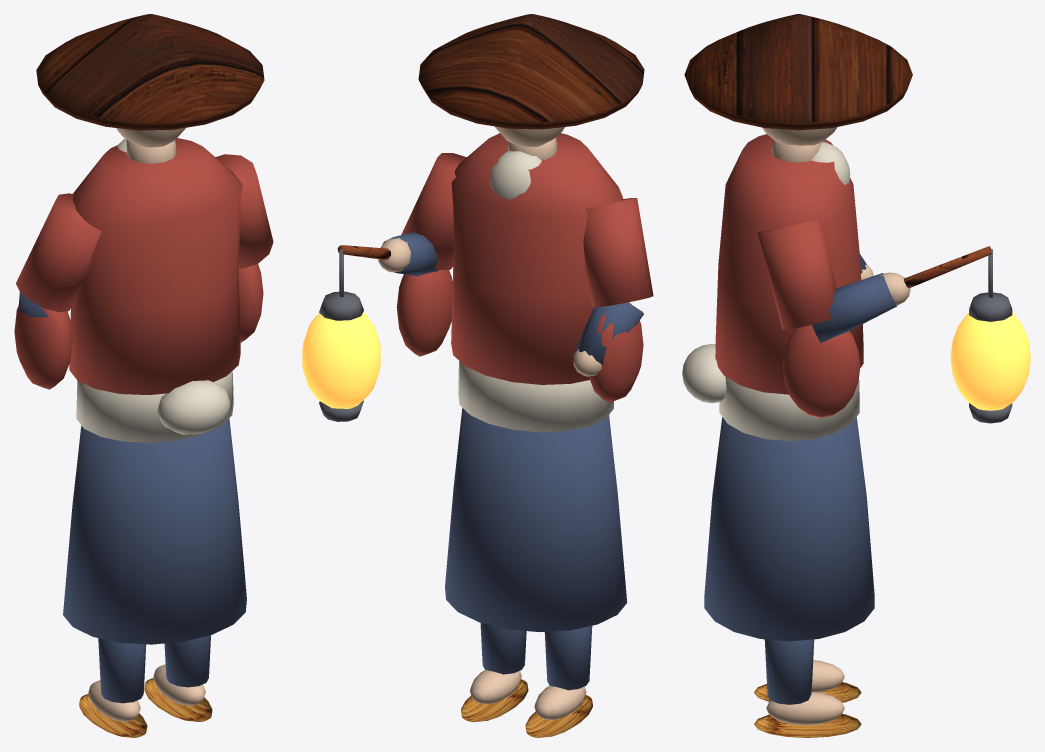
The model's file is edo_person_watchman.glb.
3 renders of one model, left to right at view 1: azimuth 30°, elevation 25°; view 2: azimuth 150°, elevation 25°; view 3: azimuth 270°, elevation 25°, orthographic.
Visible parts, largest first — view 1: person_upper, person_leg_l, person_leg_r; view 2: person_upper, person_lantern_glow, person_leg_l, person_leg_r; view 3: person_upper, person_lantern_glow, person_leg_r, person_leg_l.
Part boxes in pixels (<box>): person_upper: <box>14,14,273,644</box>; person_leg_l: <box>79,638,147,737</box>; person_leg_r: <box>144,635,212,721</box>; person_upper: <box>337,14,653,632</box>; person_lantern_glow: <box>302,291,380,421</box>; person_leg_l: <box>525,626,592,737</box>; person_leg_r: <box>461,623,528,722</box>; person_upper: <box>682,14,992,641</box>; person_lantern_glow: <box>950,292,1030,423</box>; person_leg_r: <box>754,639,861,737</box>; person_leg_l: <box>754,660,861,702</box>.
Size of the model in its own units: 0.6397 by 1.69 by 0.763.
Materials: 9 (3 with a texture image).
